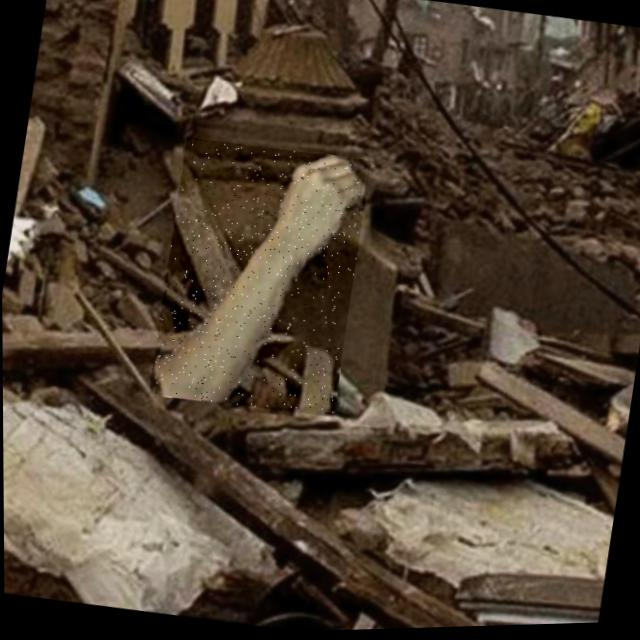Person in Rubble: (146, 134, 372, 424)
